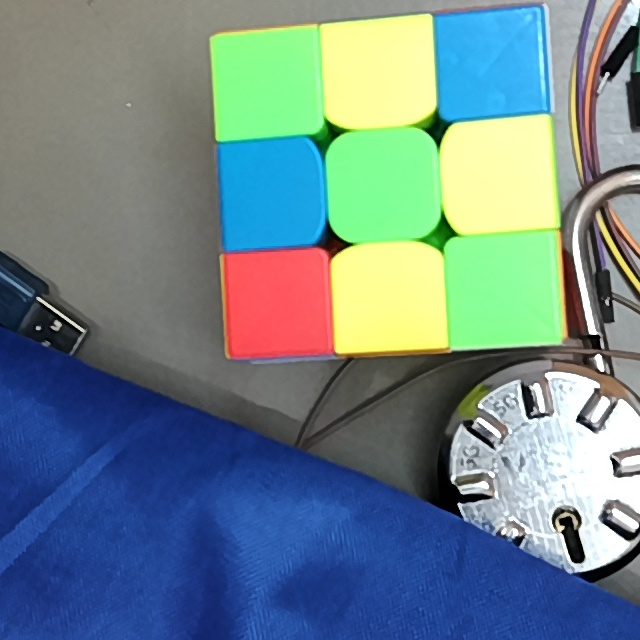tile: (454, 244, 557, 336), (452, 129, 551, 222), (230, 257, 323, 350), (222, 38, 314, 129), (344, 255, 437, 343), (445, 19, 536, 107), (336, 142, 429, 228), (332, 27, 424, 108), (229, 149, 313, 235)
